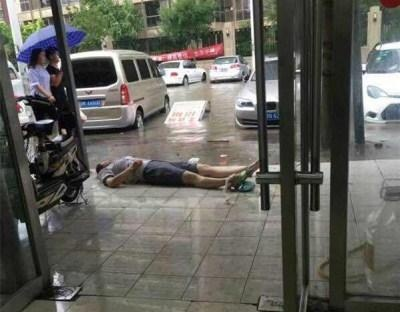falling: (89, 146, 264, 196)
